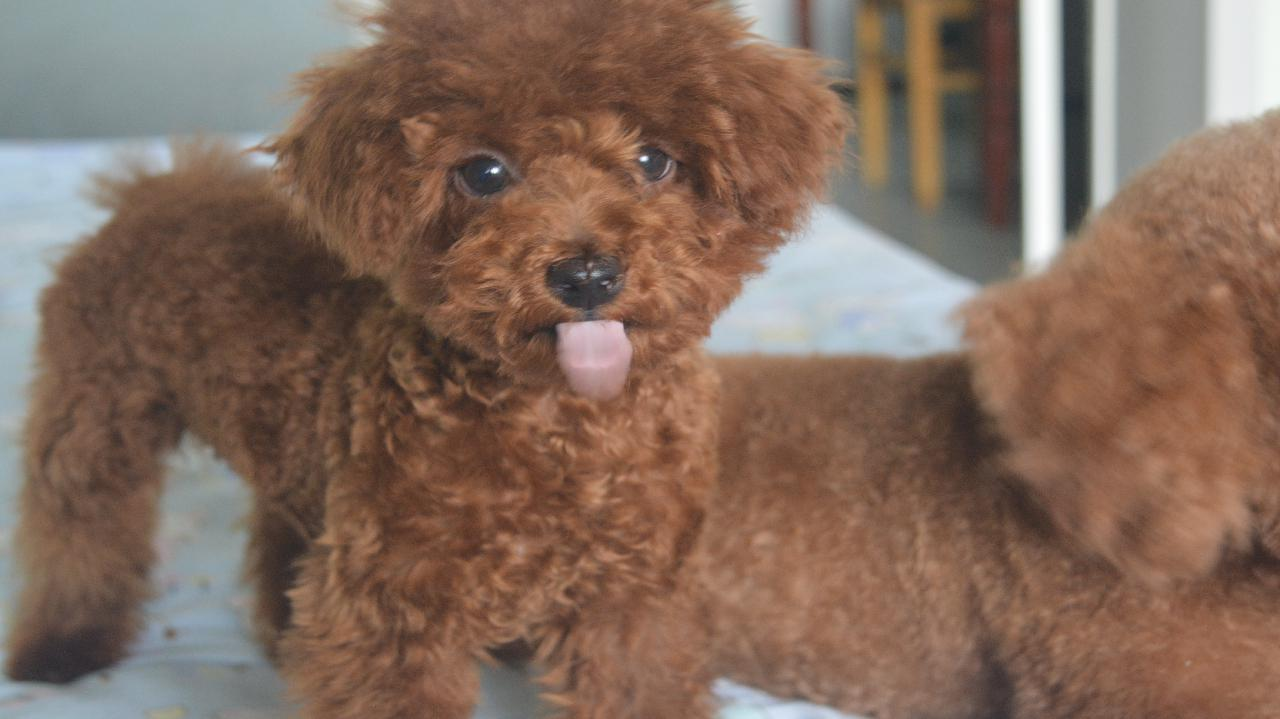coin: (36, 3, 807, 714)
zhuangzhuang: (829, 62, 1276, 714)
